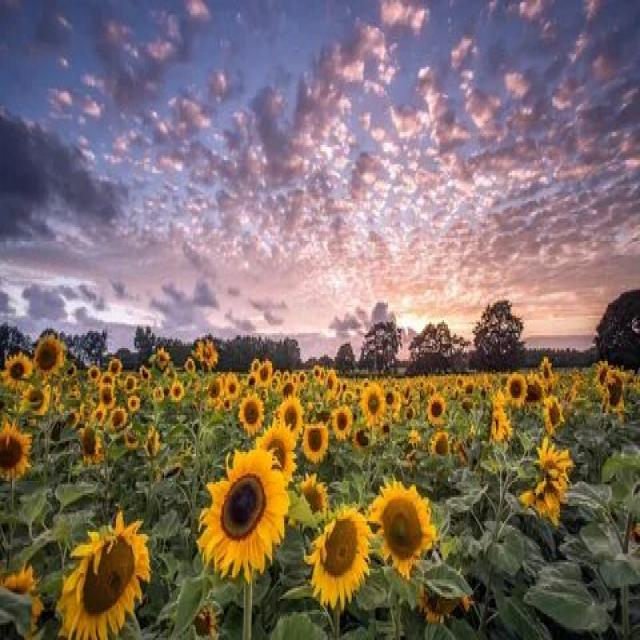sunflower: (197, 435, 291, 590), (57, 504, 151, 640), (362, 478, 438, 584), (306, 500, 366, 622), (522, 439, 572, 528), (25, 333, 68, 381), (231, 382, 264, 437), (301, 411, 327, 473), (603, 365, 629, 420), (359, 379, 386, 430), (4, 350, 34, 394), (278, 395, 303, 446), (503, 365, 528, 411), (425, 387, 447, 437), (106, 398, 126, 434), (165, 376, 187, 404)
